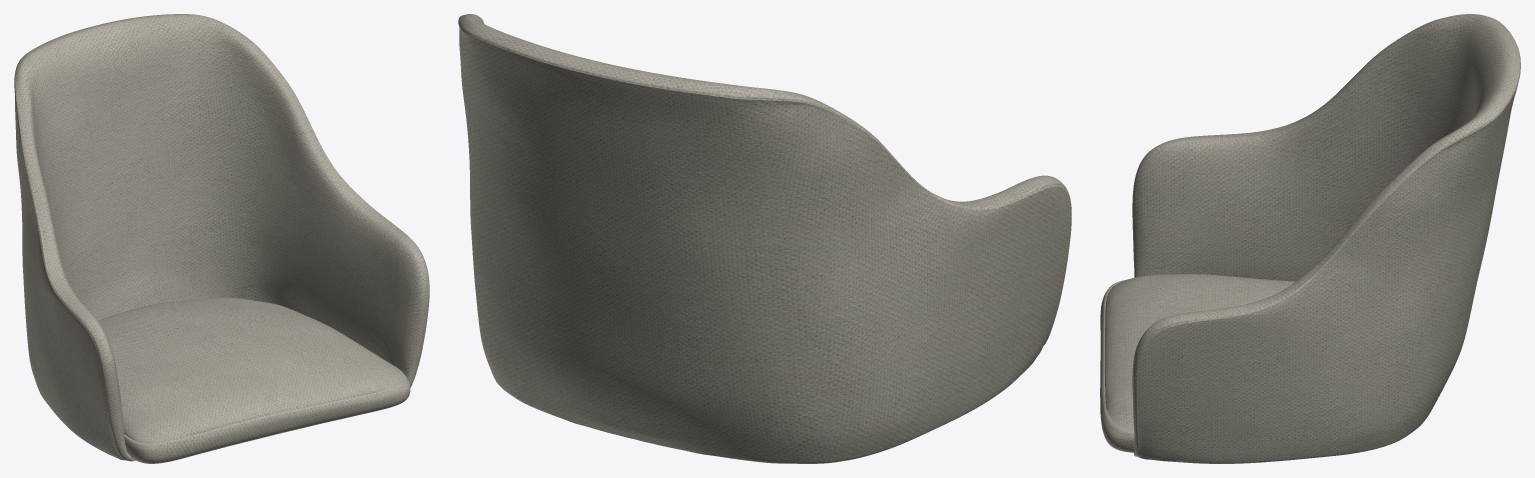
Rendered from Amy-2 drewno.glb.
3 views of the same model, side by side, from view 1: azimuth 30°, elevation 25°; view 2: azimuth 150°, elevation 25°; view 3: azimuth 270°, elevation 25° (orthographic). The views are drawn at different scales.
Visible parts, largest first — view 1: backseat.003; view 2: backseat.003; view 3: backseat.003.
Boxes of the visible parts, x1=… form: backseat.003: x1=14, y1=14, x2=429, y2=463; backseat.003: x1=458, y1=14, x2=1071, y2=463; backseat.003: x1=1100, y1=14, x2=1520, y2=463.
Size of the model in its own units: 0.5856 by 0.4768 by 0.5652.
1 material, 1 textured.
